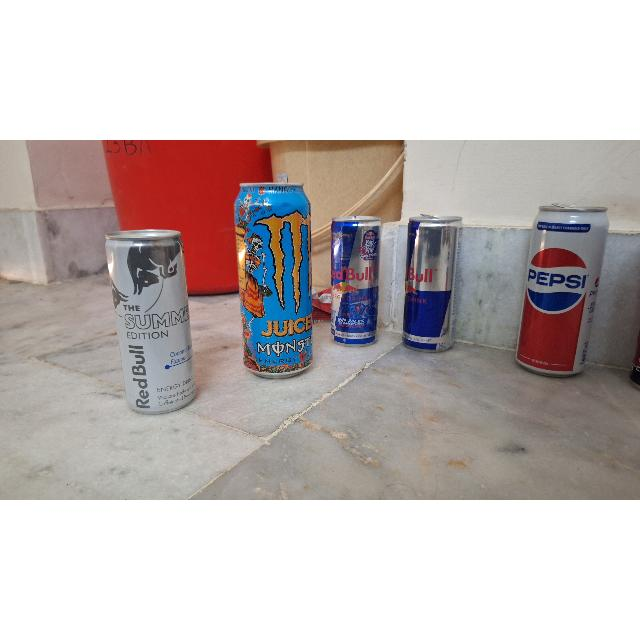Monster Mango Loco: (233, 180, 315, 380)
Pepsi Retro: (504, 205, 614, 378)
Redbull: (406, 212, 458, 350)
Redbull DanceYourStyle: (328, 218, 379, 346)
Redbull Summer Edition: (103, 224, 199, 416)
